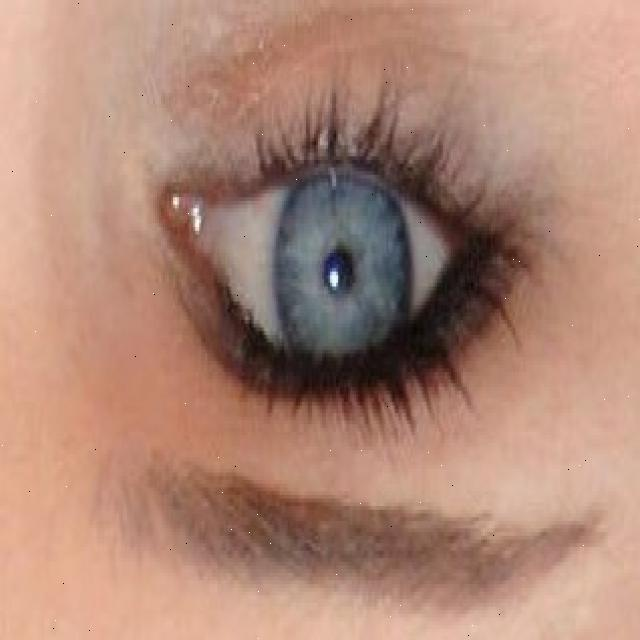Normal: (276, 160, 412, 402)
